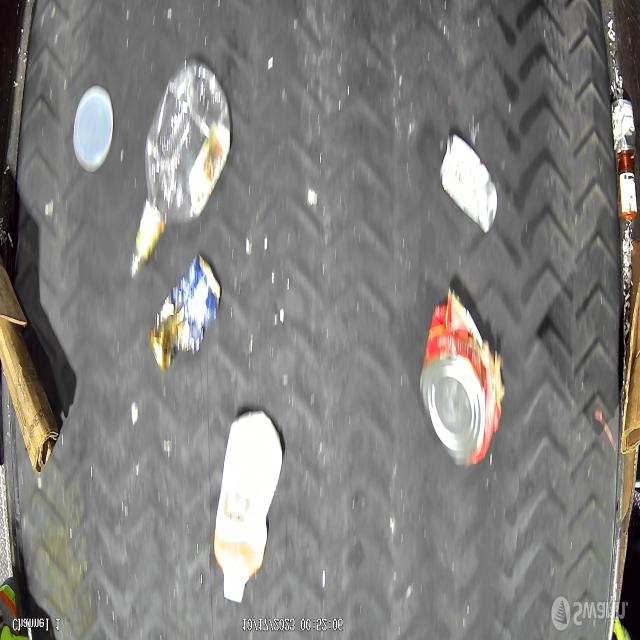can: (420, 294, 505, 469), (151, 256, 222, 369), (439, 133, 498, 233), (611, 98, 636, 157)
non_white_jug: (214, 410, 284, 604)
plastic_bottle: (132, 58, 231, 273)
